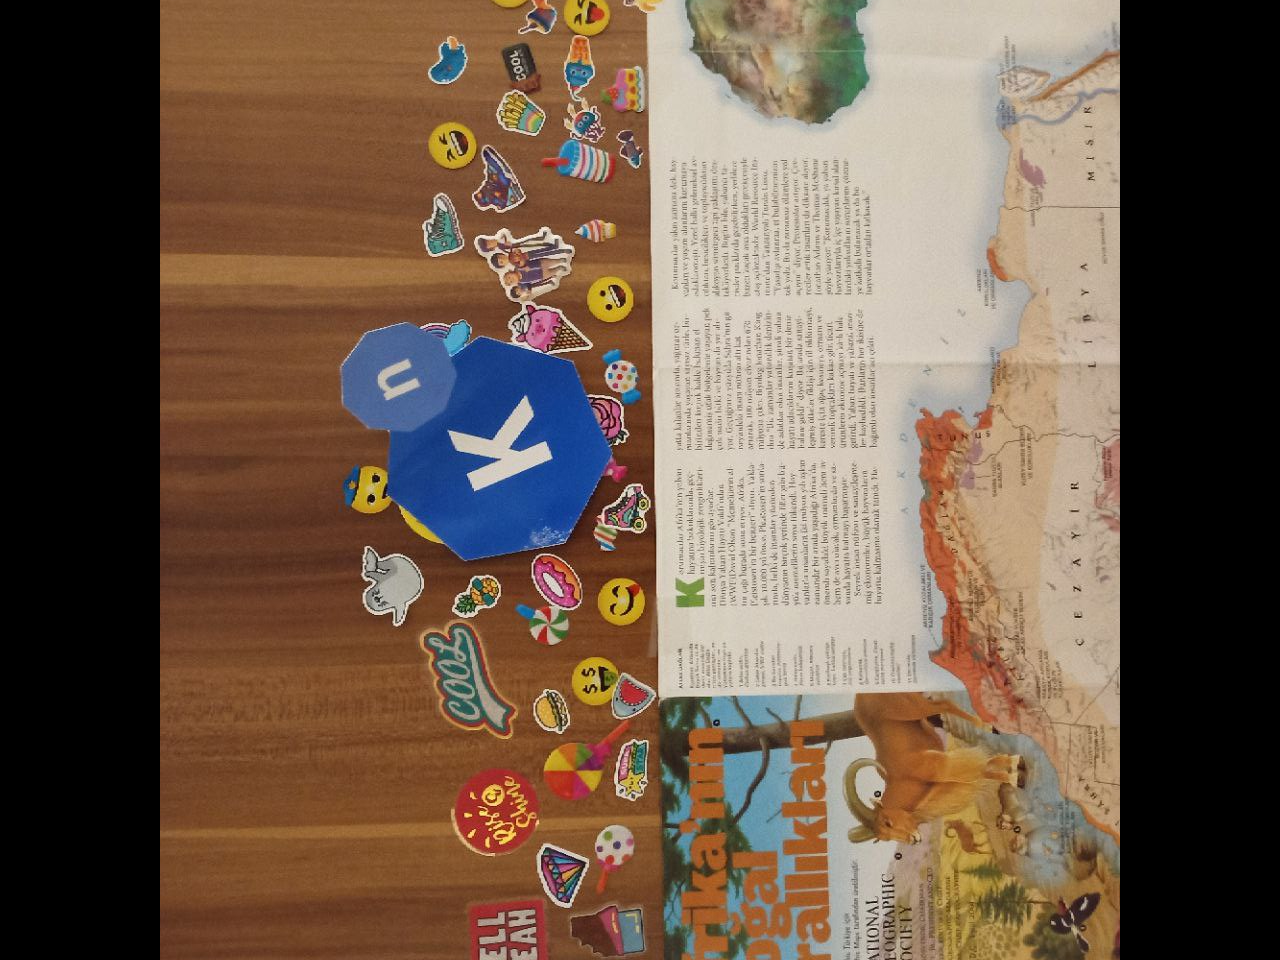knative: (339, 320, 613, 562)
